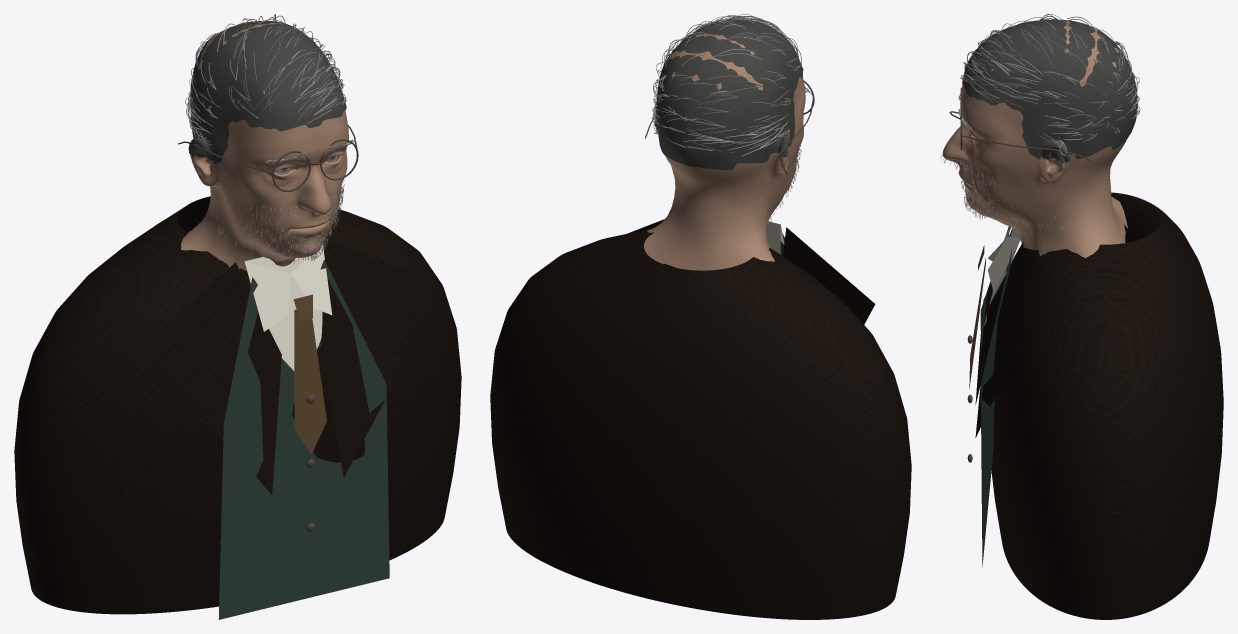
Rendered from scholar-blockout.glb.
The picture shows the model from 3 angles, left to right: view 1: azimuth 30°, elevation 25°; view 2: azimuth 150°, elevation 25°; view 3: azimuth 270°, elevation 25°; orthographic projection. The views are drawn at different scales.
Visible parts, largest first — view 1: Scholar Brown tweed blocking, Scholar Forest wool waistcoat, Scholar Neutral aged skin blockout, Scholar Grey hair underlayer, Scholar Ivory shirt, Scholar Muted patterned tie blocking, Scholar Grey strand 1, Scholar Grey strand 3, Scholar Grey strand 2, Scholar Grey strand 0, Scholar Thin dark bronze spectacle rims, Scholar Grey strand 4; view 2: Scholar Brown tweed blocking, Scholar Grey hair underlayer, Scholar Neutral aged skin blockout, Scholar Grey strand 1, Scholar Grey strand 3, Scholar Grey strand 4, Scholar Grey strand 2, Scholar Grey strand 0; view 3: Scholar Brown tweed blocking, Scholar Neutral aged skin blockout, Scholar Grey hair underlayer, Scholar Forest wool waistcoat, Scholar Grey strand 1, Scholar Grey strand 3, Scholar Ivory shirt, Scholar Grey strand 2, Scholar Grey strand 4, Scholar Grey strand 0, Scholar Thin dark bronze spectacle rims, Scholar Muted patterned tie blocking.
Part boxes in pixels (x1,y1,x2,y2): Scholar Brown tweed blocking: [14, 196, 461, 614]; Scholar Forest wool waistcoat: [218, 259, 389, 619]; Scholar Neutral aged skin blockout: [181, 21, 349, 270]; Scholar Grey hair underlayer: [188, 20, 346, 164]; Scholar Ivory shirt: [244, 244, 332, 370]; Scholar Muted patterned tie blocking: [293, 294, 326, 454]; Scholar Grey strand 1: [186, 15, 354, 263]; Scholar Grey strand 3: [187, 19, 355, 262]; Scholar Grey strand 2: [188, 14, 355, 262]; Scholar Grey strand 0: [191, 16, 346, 260]; Scholar Thin dark bronze spectacle rims: [178, 125, 358, 531]; Scholar Grey strand 4: [185, 18, 349, 261]; Scholar Brown tweed blocking: [490, 219, 911, 619]; Scholar Grey hair underlayer: [654, 19, 803, 170]; Scholar Neutral aged skin blockout: [644, 34, 805, 270]; Scholar Grey strand 1: [651, 15, 809, 230]; Scholar Grey strand 3: [652, 16, 805, 225]; Scholar Grey strand 4: [653, 14, 811, 223]; Scholar Grey strand 2: [653, 17, 810, 234]; Scholar Grey strand 0: [653, 16, 808, 224]; Scholar Brown tweed blocking: [975, 192, 1223, 619]; Scholar Neutral aged skin blockout: [942, 20, 1135, 284]; Scholar Grey hair underlayer: [962, 19, 1137, 163]; Scholar Forest wool waistcoat: [980, 226, 1011, 567]; Scholar Grey strand 1: [942, 16, 1139, 235]; Scholar Grey strand 3: [945, 19, 1139, 227]; Scholar Ivory shirt: [983, 227, 1020, 326]; Scholar Grey strand 2: [940, 23, 1139, 228]; Scholar Grey strand 4: [959, 14, 1139, 230]; Scholar Grey strand 0: [944, 14, 1140, 228]; Scholar Thin dark bronze spectacle rims: [949, 87, 1094, 462]; Scholar Muted patterned tie blocking: [969, 245, 985, 389].
Bounding box in the file's own units: 0.5268 × 0.6401 × 0.3243.
15 materials, 1 textured.
